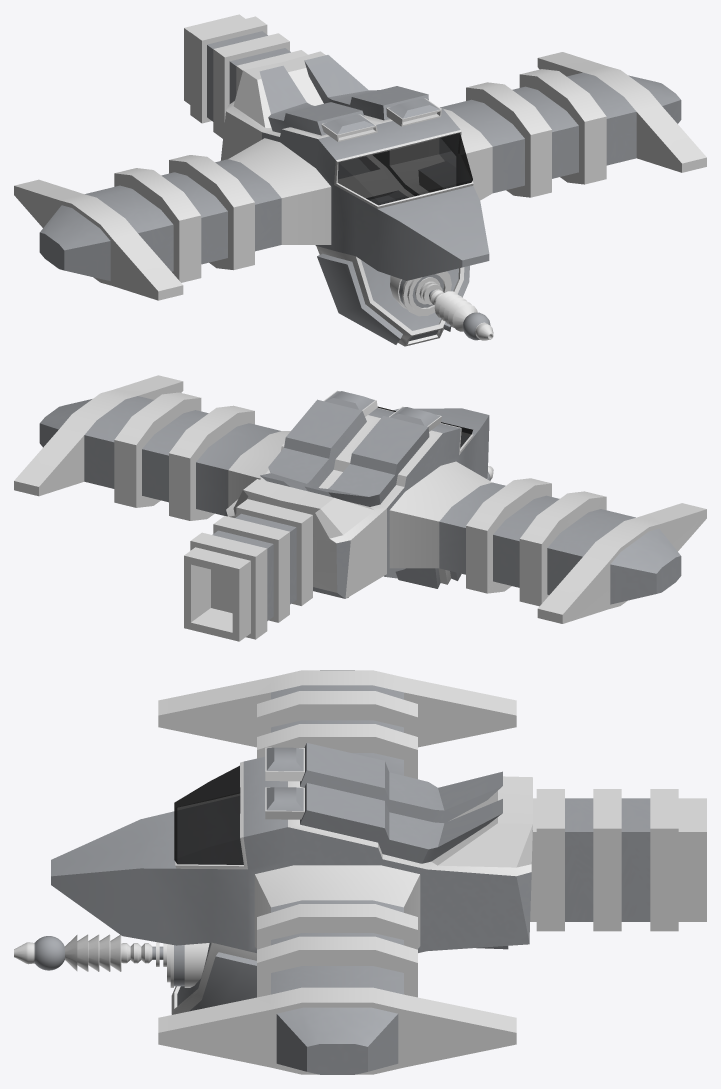
The model's file is CBE.fbx.
3 renders of one model, top to bottom at view 1: azimuth 30°, elevation 25°; view 2: azimuth 150°, elevation 25°; view 3: azimuth 270°, elevation 25°, orthographic. The views are drawn at different scales.
Visible parts, largest first — view 1: CBE; view 2: CBE; view 3: CBE.
Boxes of the visible parts, x1,y1,x2,y2 form: CBE: (14,14,706,346); CBE: (14,375,706,641); CBE: (14,670,706,1074).
Bounding box in the file's own units: 8.9 × 2.8 × 6.97.
